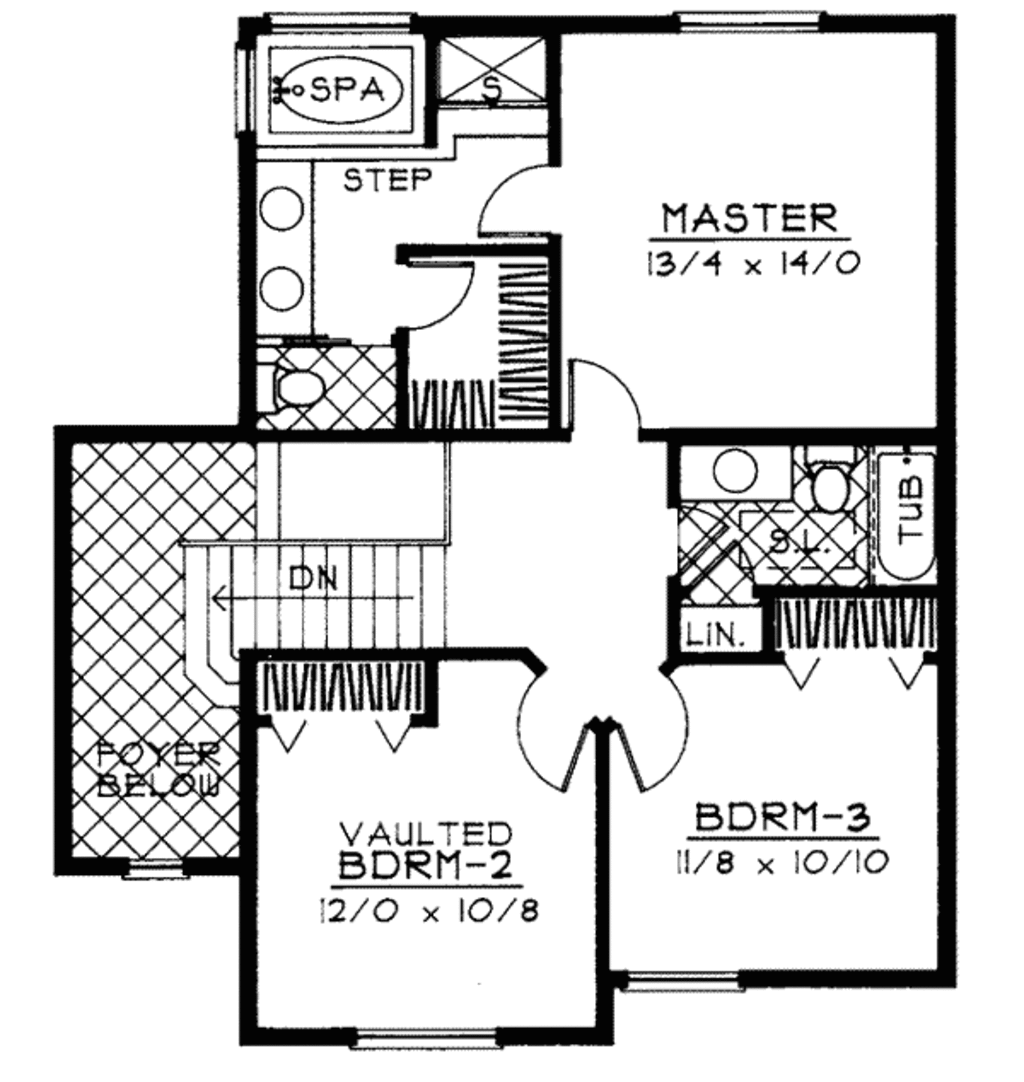door: (597, 657, 698, 800), (506, 659, 595, 817), (562, 352, 650, 445), (474, 160, 566, 236), (391, 262, 486, 329)
large_sink: (241, 348, 328, 423), (803, 440, 862, 523)
small_sink: (255, 156, 324, 338), (682, 441, 797, 503)
stairs: (171, 533, 456, 710)
tub: (876, 442, 948, 593)
window: (345, 1021, 503, 1057), (681, 5, 817, 32), (263, 7, 421, 30), (113, 853, 205, 890), (625, 961, 748, 986)
